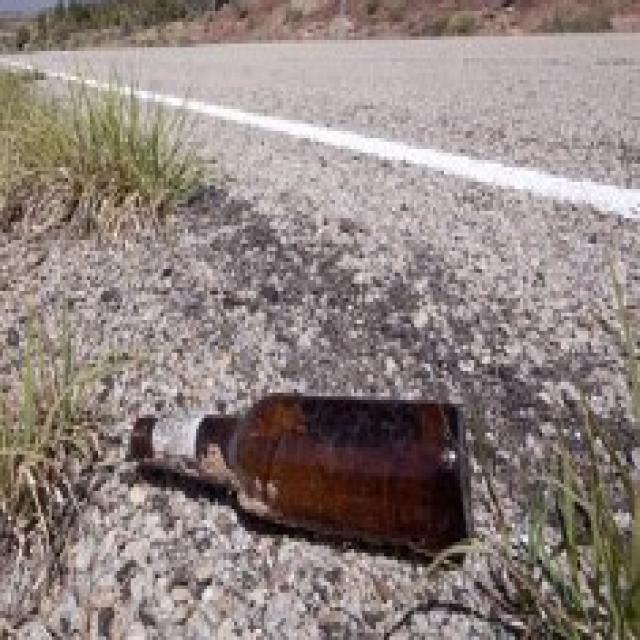electronic: (125, 386, 482, 567)
